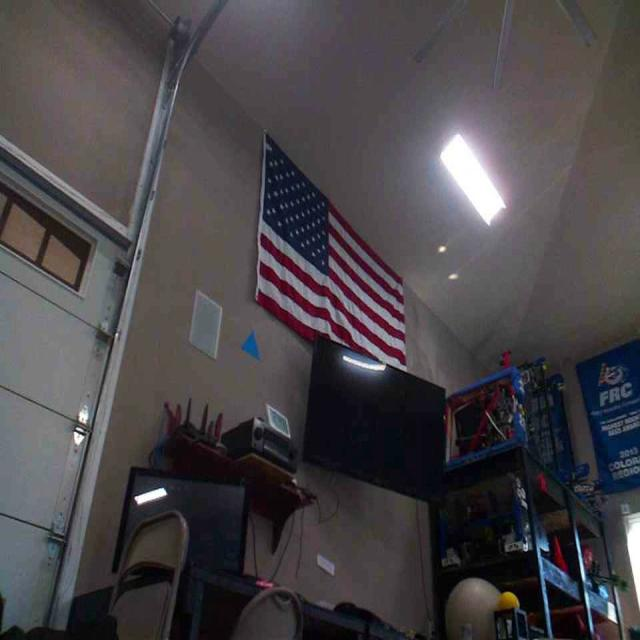triangle_blue: (240, 330, 261, 357)
